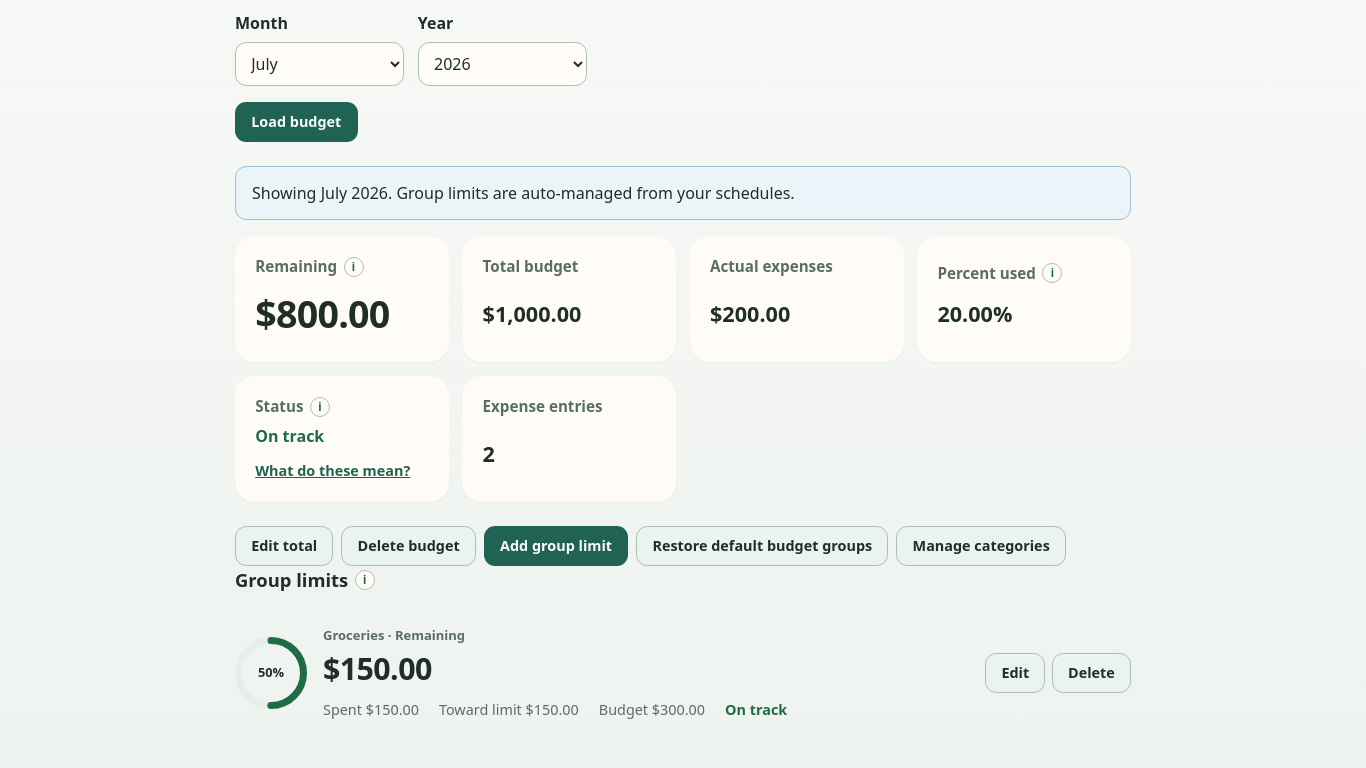
it: BudgetsPage › restores missing default budget groups after confirmation
(page scrolled)
Expected: the text "$1,000.00" is shown, left=483, top=299, right=581, bottom=328
What coordinates should you click on to do the following:
click the button "Restore default budget groups"
I would click on:
 (762, 546)
Its box is left=636, top=526, right=888, bottom=566.
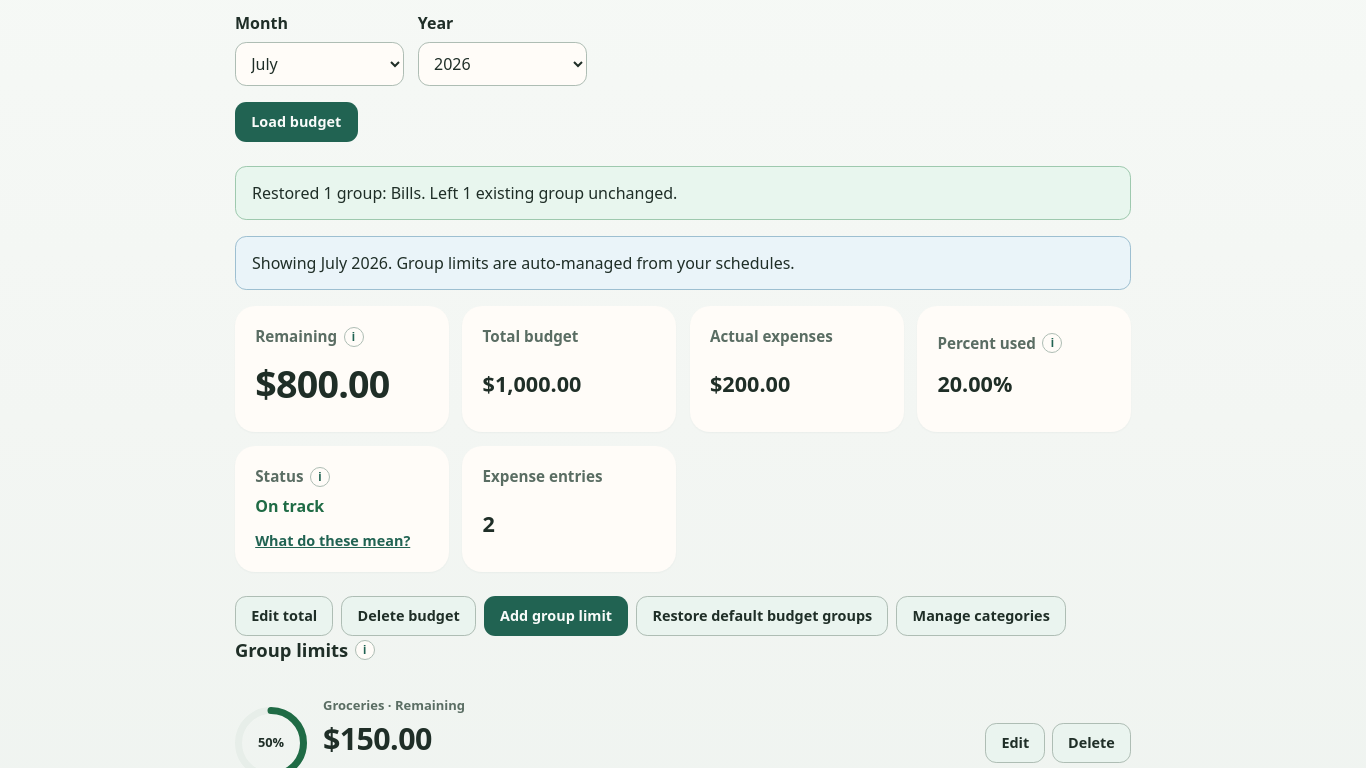
Now the text "Restored 1 group: Bills. Left 1 existing group unchanged." is shown, box left=235, top=166, right=1131, bottom=220
